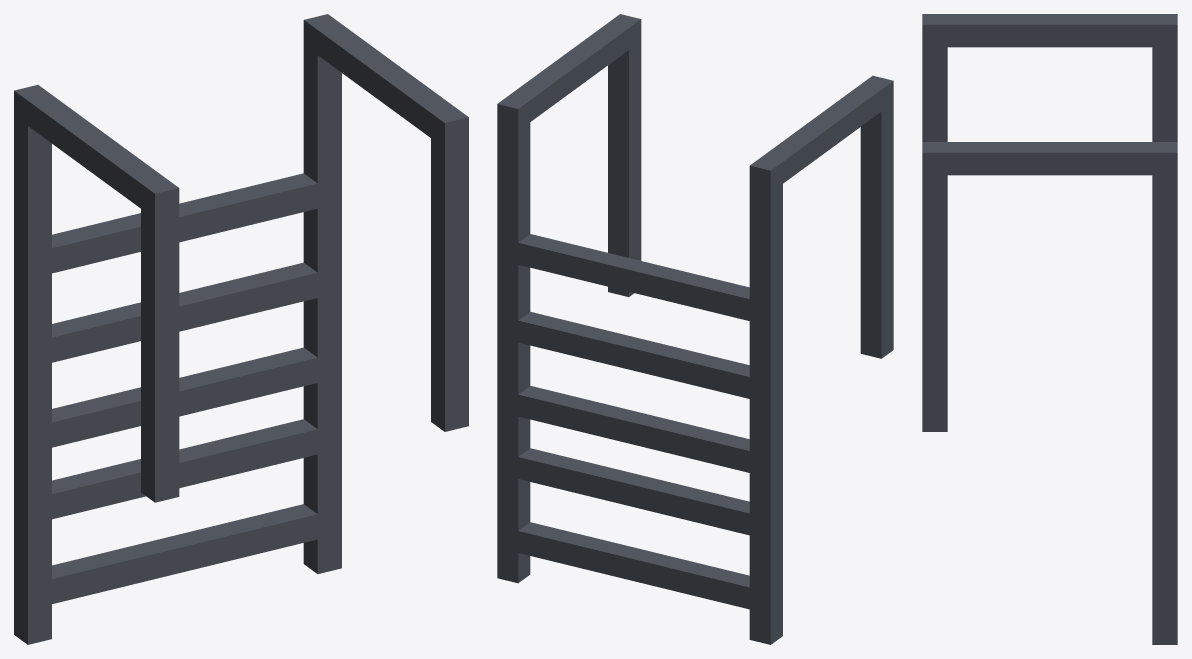
File: stair1.FBX
3 views of the same model, side by side, from view 1: azimuth 30°, elevation 25°; view 2: azimuth 150°, elevation 25°; view 3: azimuth 270°, elevation 25° (orthographic). The views are drawn at different scales.
Parts seen in each view (by area): view 1: stair1; view 2: stair1; view 3: stair1.
Part boxes in pixels (x1,y1,x2,y2): stair1: (14, 14, 468, 644); stair1: (497, 14, 893, 644); stair1: (922, 14, 1177, 644).
Bounding box in the file's own units: 5.21 × 8.63 × 4.06.
